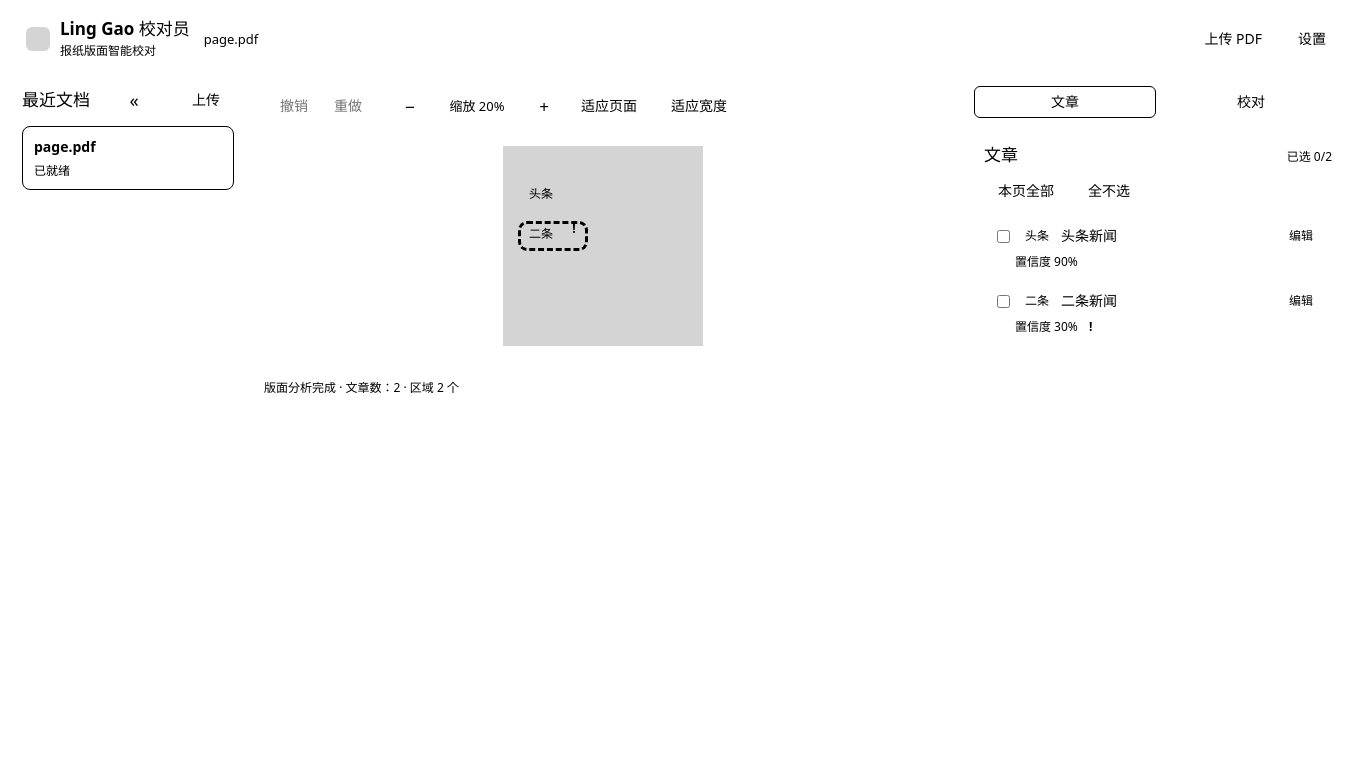
Test case: App layout integration › selects a region and moves it with the keyboard, clamped to the page
The image size is (1366, 768).
Earlier steps of the test are not shown.
Later steps or results of the test are not shown.
Step 1. Click the button "头条" → (541, 194), box [529,185,553,202]
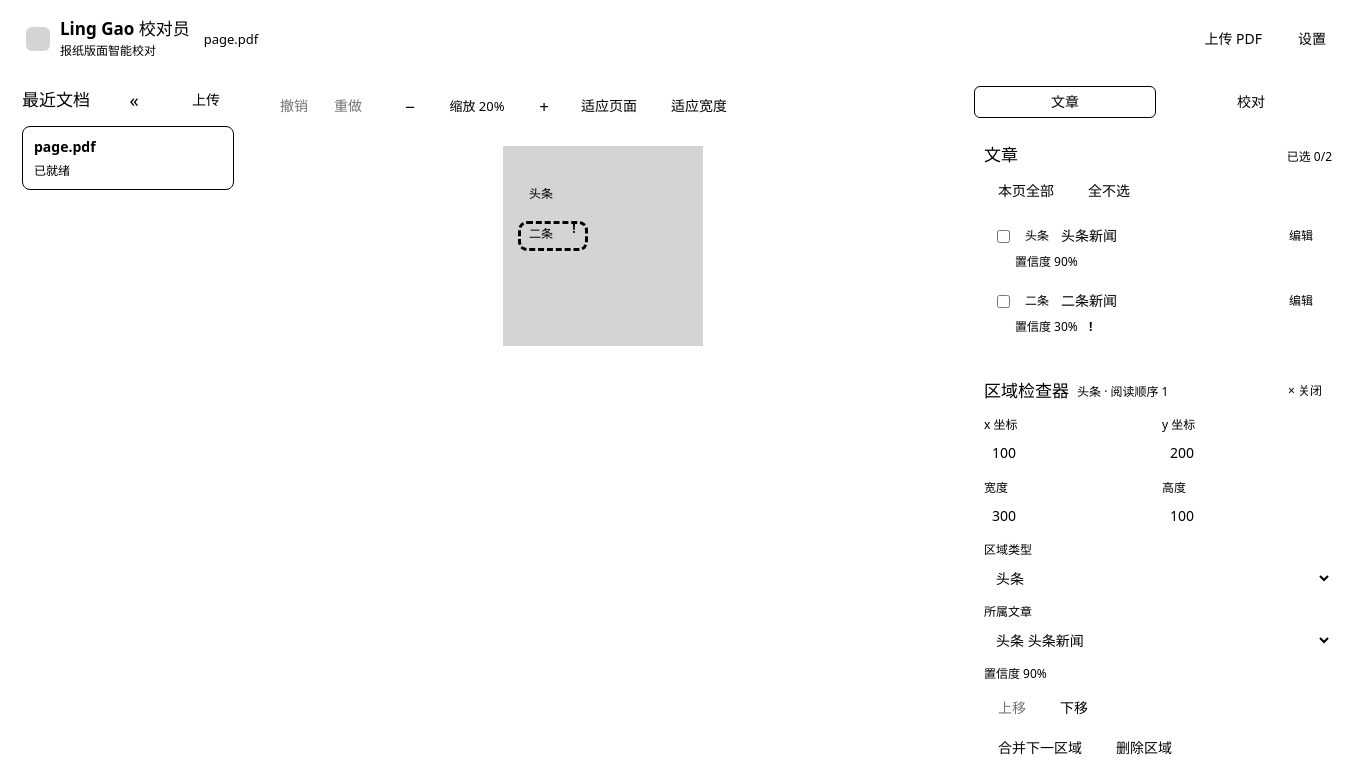
Check: the number field labelled "x 坐标" is shown, box [984,438,1154,470]
